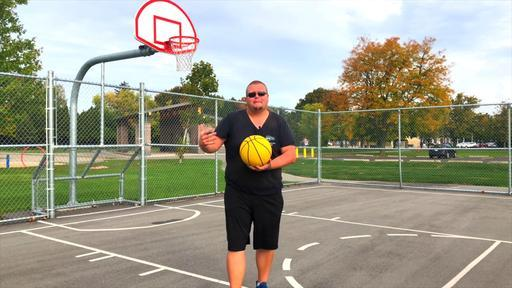ball: (240, 136, 272, 168)
human: (198, 81, 296, 288)
rim: (170, 36, 200, 70)
